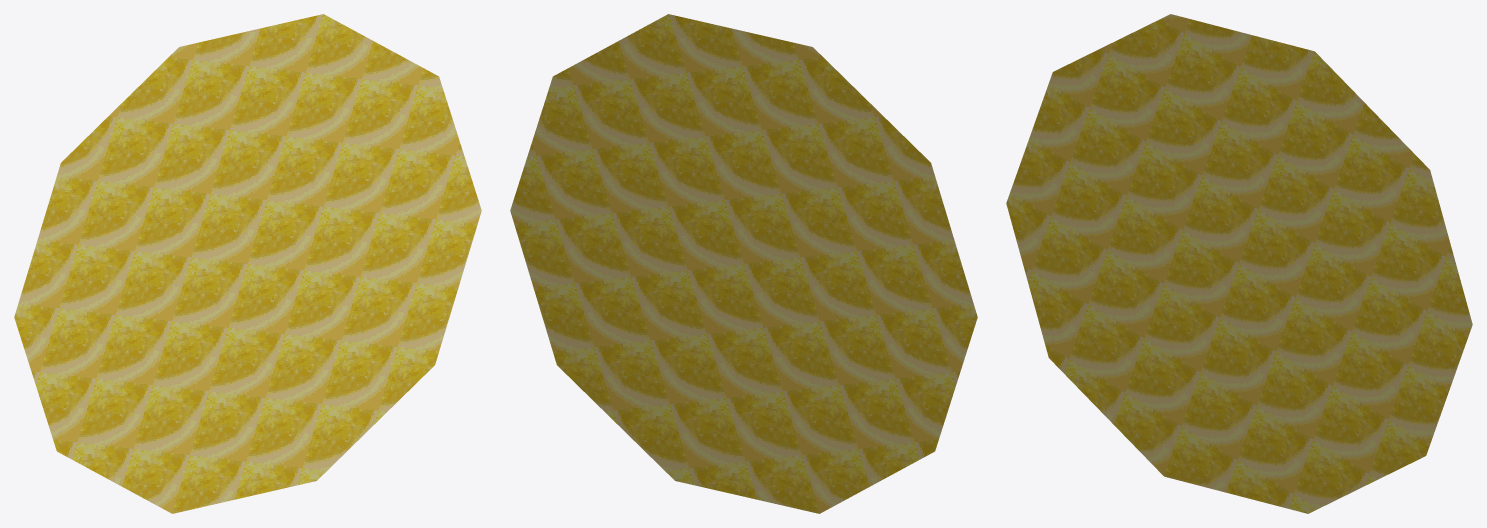
3 renders of one model, left to right at view 1: azimuth 30°, elevation 25°; view 2: azimuth 150°, elevation 25°; view 3: azimuth 330°, elevation 25°, orthographic.
Visible parts, largest first — view 1: ef_630; view 2: ef_630; view 3: ef_630.
Boxes of the visible parts, x1,y1,x2,y2 form: ef_630: [14, 14, 481, 513]; ef_630: [510, 14, 977, 513]; ef_630: [1006, 14, 1472, 513].
Bounding box in the file's own units: 0.8188 × 0.7823 × 0.
Materials: 1 (1 with a texture image).
